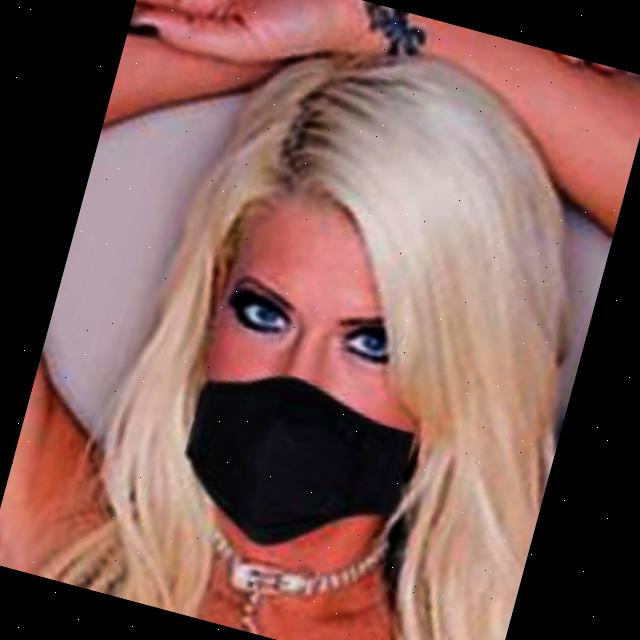suspicion: (129, 61, 540, 594)
